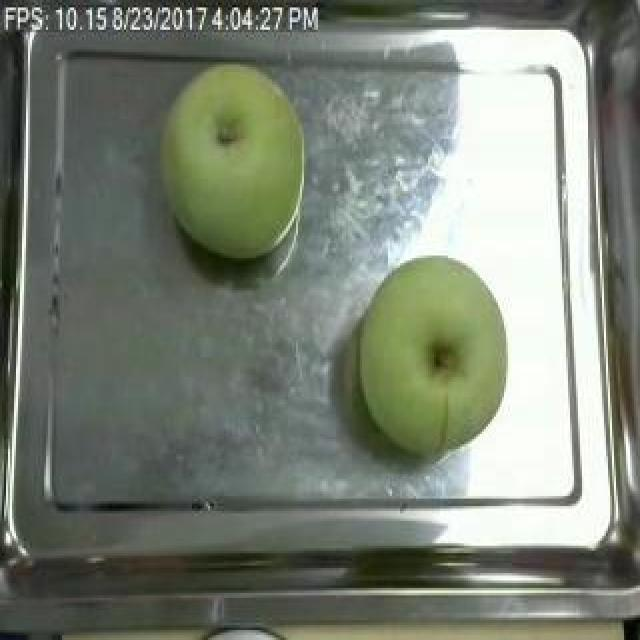Rotten Apple: (347, 252, 517, 458), (160, 66, 314, 262)
